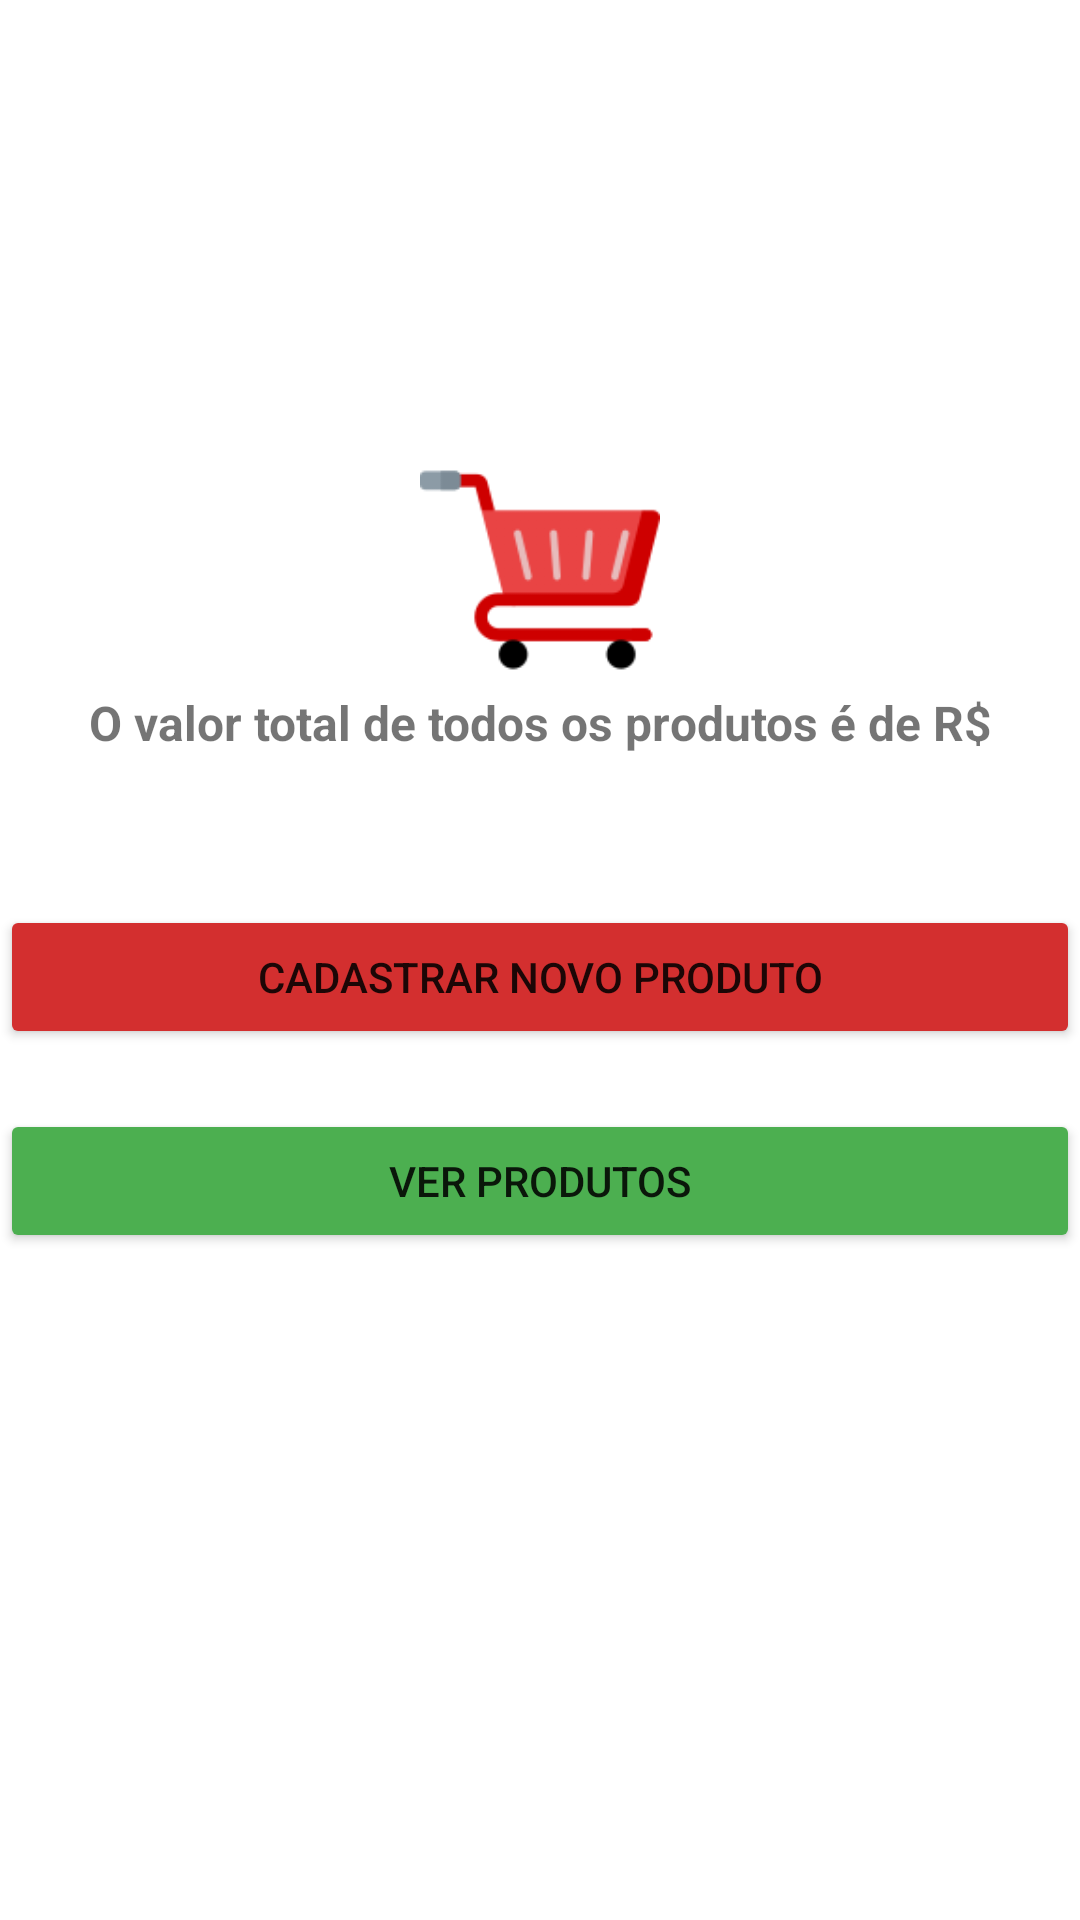

Icon click points for this 1080px x 1920px phone screenshot, format (x=x, y=y):
Carrinho de compras vermelho com rodinhas pretas: (x=540, y=570)
